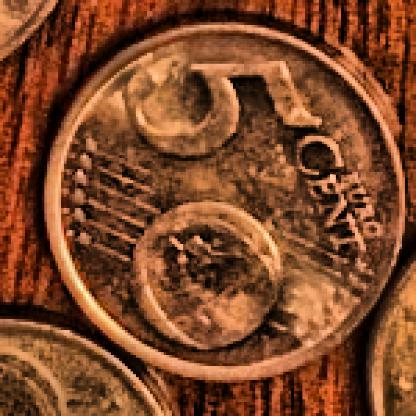coin: (39, 14, 412, 382)
